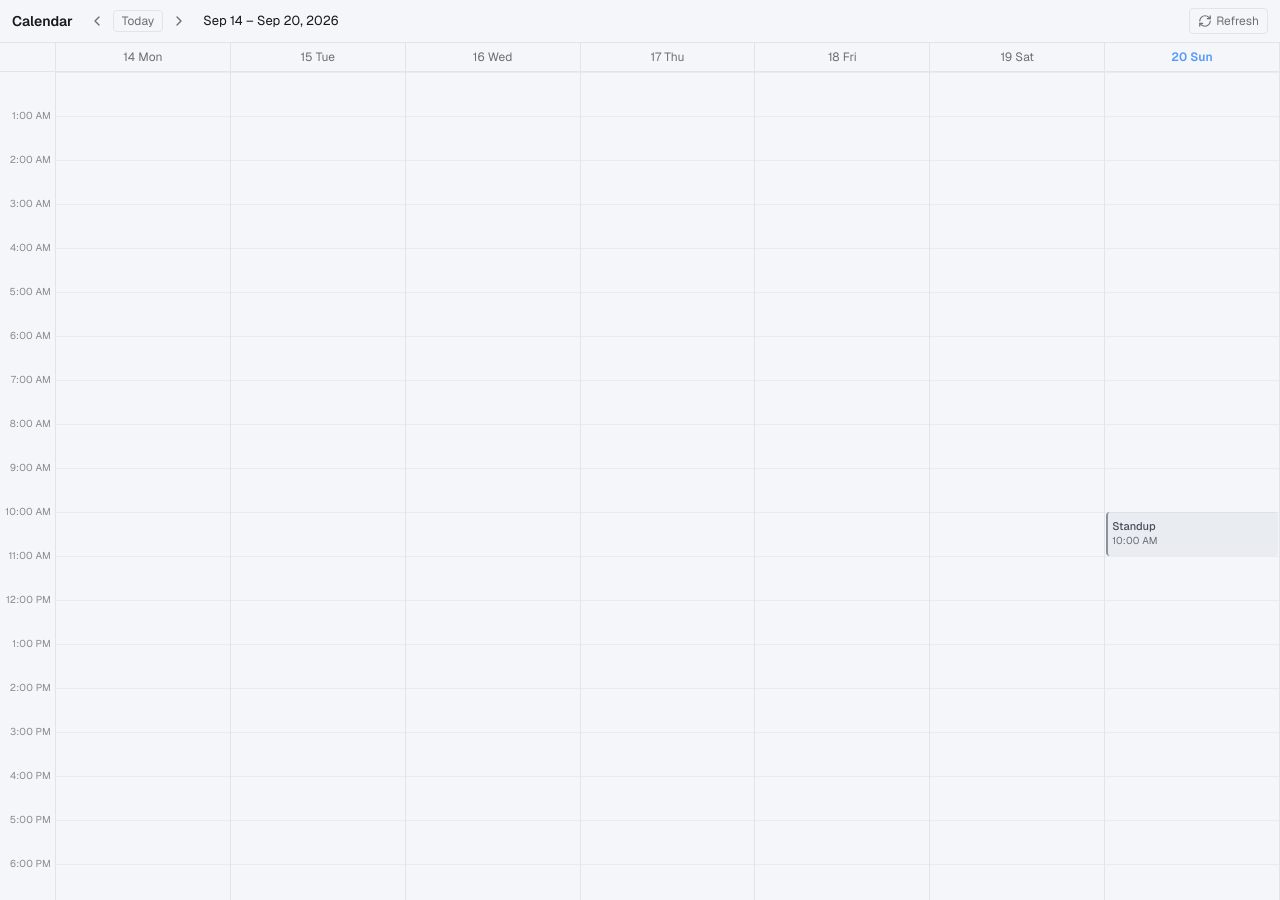
Test: CalendarPage — desktop grid › renders the week grid and opens the detail panel on event click
Click the button with test id "calendar-event-eventkit:e1" at point(1192, 534), box [1106,512,1278,556]
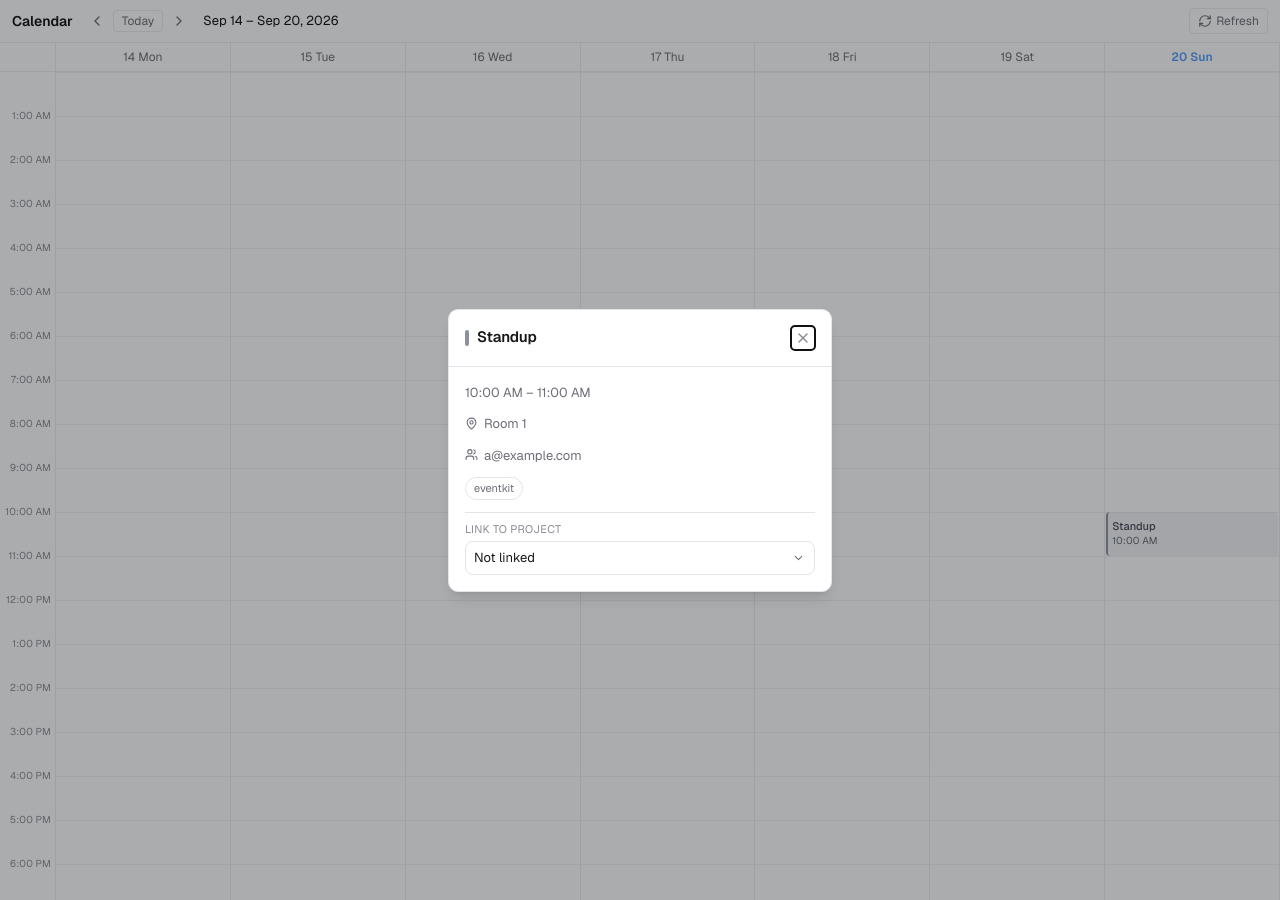
Check: the dialog with test id "calendar-event-detail" is shown, box [448,308,832,592]
Check: the text "Room 1" is shown, box [484,414,527,434]
Check: the text with test id "calendar-event-source" reads "eventkit", box [474,481,514,495]
